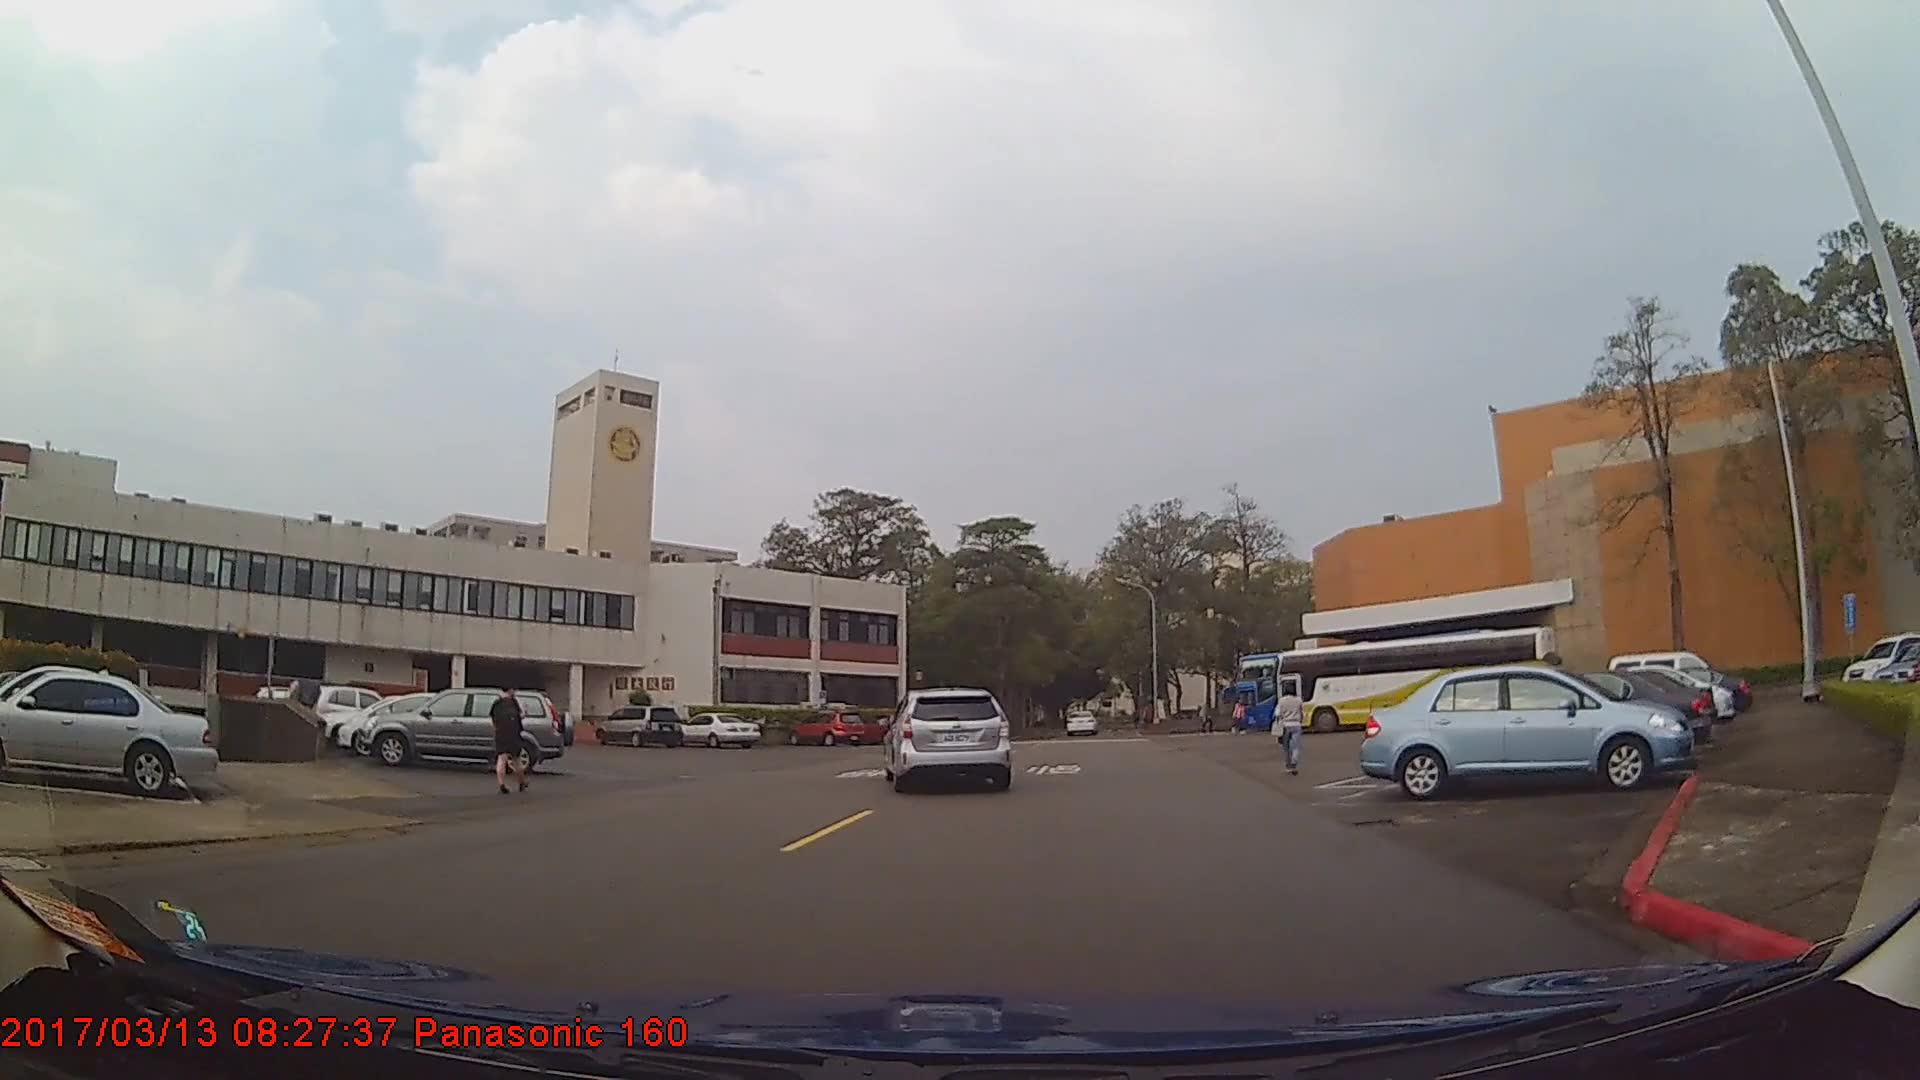pedestrian: (489, 678, 529, 793), (1274, 682, 1305, 774)
vehicle: (1361, 664, 1697, 801), (1272, 624, 1556, 736), (0, 662, 217, 793), (1433, 665, 1709, 758), (1233, 642, 1459, 732), (356, 684, 575, 773), (884, 684, 1007, 794), (336, 691, 500, 759), (311, 680, 404, 733), (594, 702, 684, 749), (789, 706, 868, 747), (677, 709, 761, 747), (1064, 706, 1097, 735)
